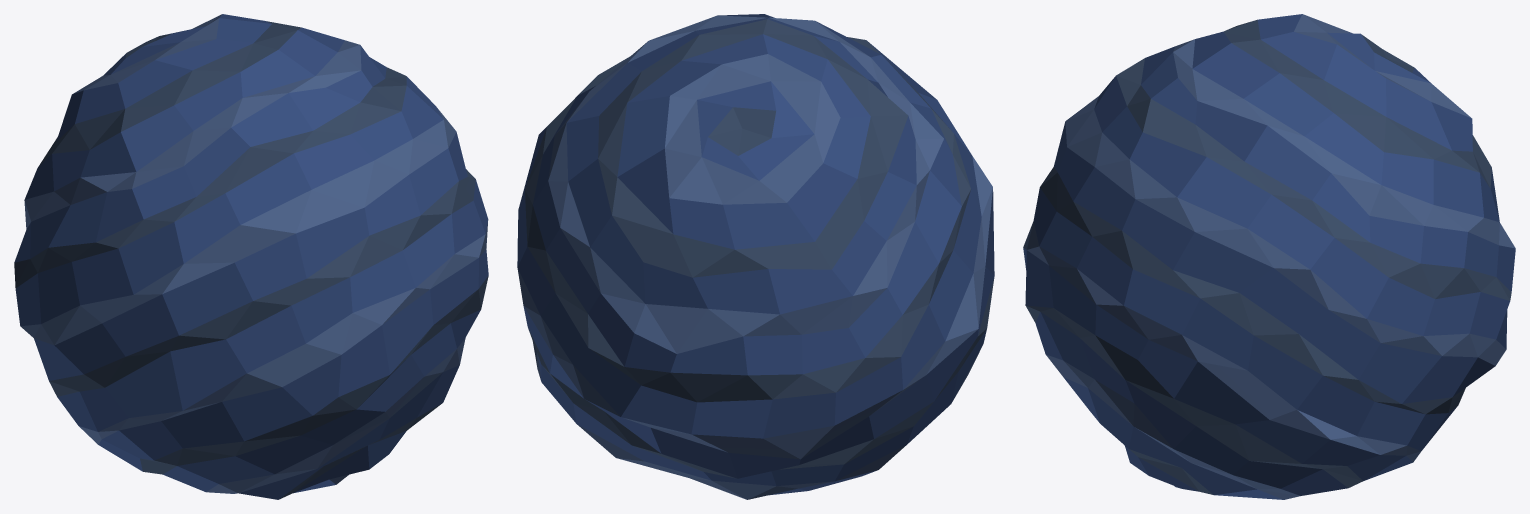
The model's file is neptune.glb.
3 renders of one model, left to right at view 1: azimuth 30°, elevation 25°; view 2: azimuth 150°, elevation 25°; view 3: azimuth 270°, elevation 25°, orthographic.
Visible parts, largest first — view 1: Neptune_Icosphere.010; view 2: Neptune_Icosphere.010; view 3: Neptune_Icosphere.010.
Part boxes in pixels (box(x1,y1,x2,y2)): Neptune_Icosphere.010: box(14, 14, 488, 499); Neptune_Icosphere.010: box(517, 14, 994, 499); Neptune_Icosphere.010: box(1023, 14, 1515, 499).
Bounding box in the file's own units: 3.06 × 3.07 × 3.12.
